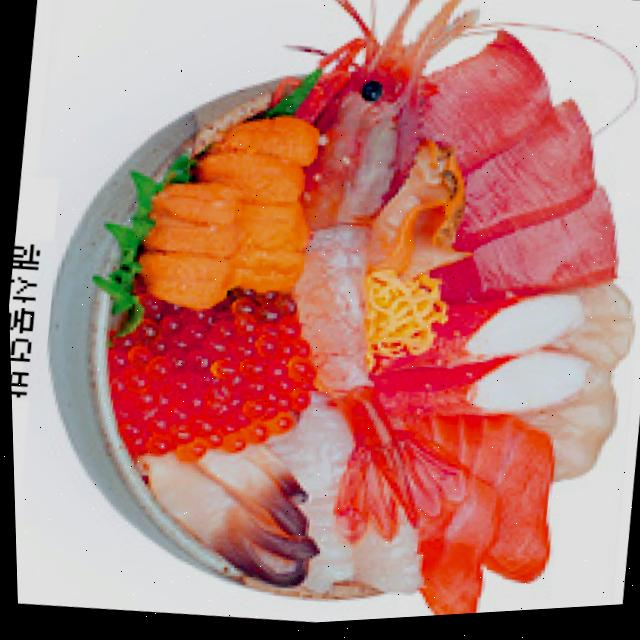刺身生食: (2, 0, 640, 640)
